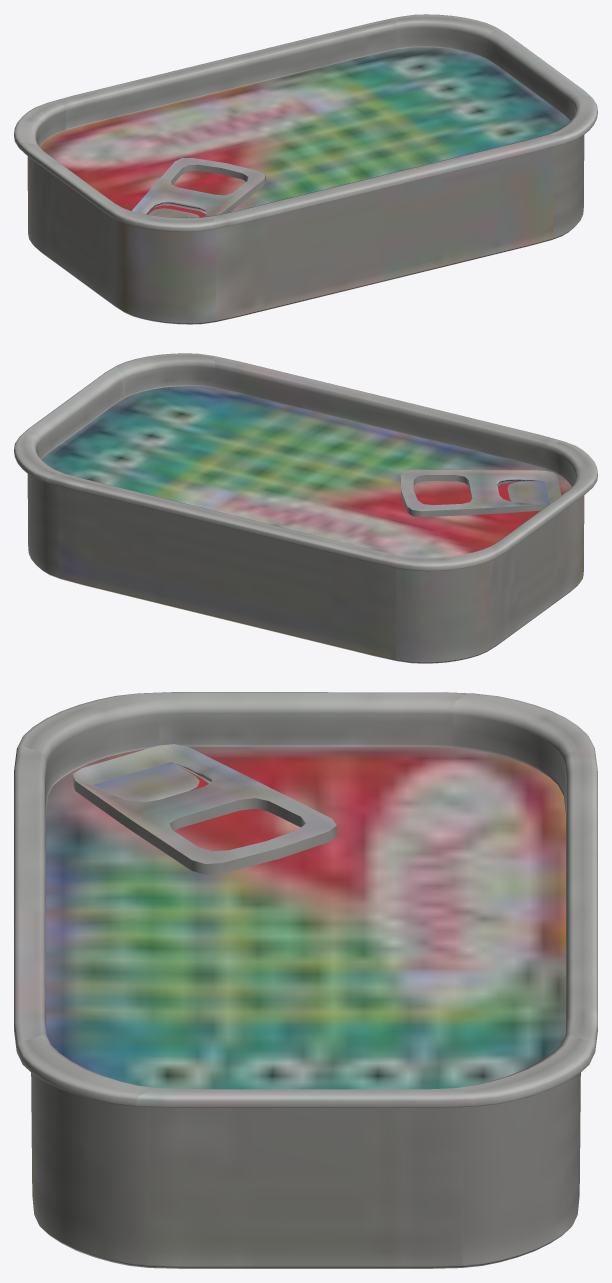
Rendered from lata_sardinha.glb.
3 renders of one model, top to bottom at view 1: azimuth 30°, elevation 25°; view 2: azimuth 150°, elevation 25°; view 3: azimuth 270°, elevation 25°, orthographic. The views are drawn at different scales.
Visible parts, largest first — view 1: Malha; view 2: Malha; view 3: Malha.
Boxes of the visible parts, box(x1,y1,x2,y2) form: Malha: box(14, 14, 597, 324); Malha: box(14, 353, 597, 663); Malha: box(14, 692, 597, 1268).
Bounding box in the file's own units: 0.13 × 0.0272 × 0.0788.
1 material, 1 textured.
